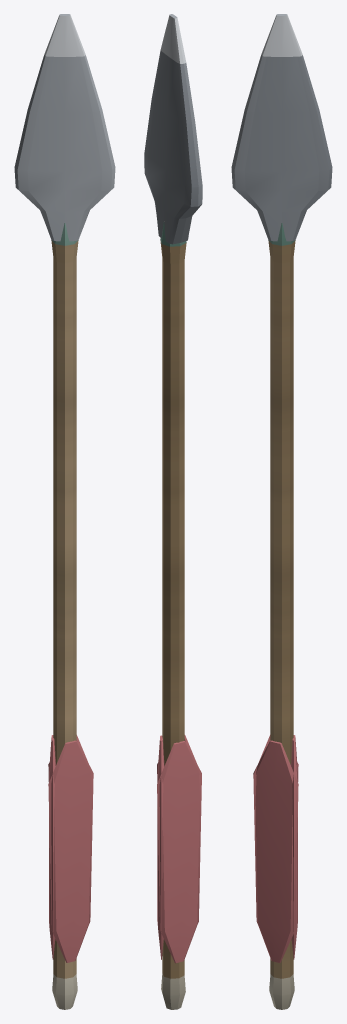
File: WPN_06B_Arrow_Hunters.fbx
3 views of the same model, side by side, from view 1: azimuth 90°, elevation 25°; view 2: azimuth 210°, elevation 25°; view 3: azimuth 270°, elevation 25° (orthographic).
Parts seen in each view (by area): view 1: EXP_WPN_06B_Arrow_Hunters; view 2: EXP_WPN_06B_Arrow_Hunters; view 3: EXP_WPN_06B_Arrow_Hunters.
Boxes of the visible parts, <box> form: EXP_WPN_06B_Arrow_Hunters: <box>14,14,115,1009</box>; EXP_WPN_06B_Arrow_Hunters: <box>144,14,202,1009</box>; EXP_WPN_06B_Arrow_Hunters: <box>231,14,332,1009</box>.
Size of the model in its own units: 13 by 273 by 25.2.
Materials: 1 (1 with a texture image).
